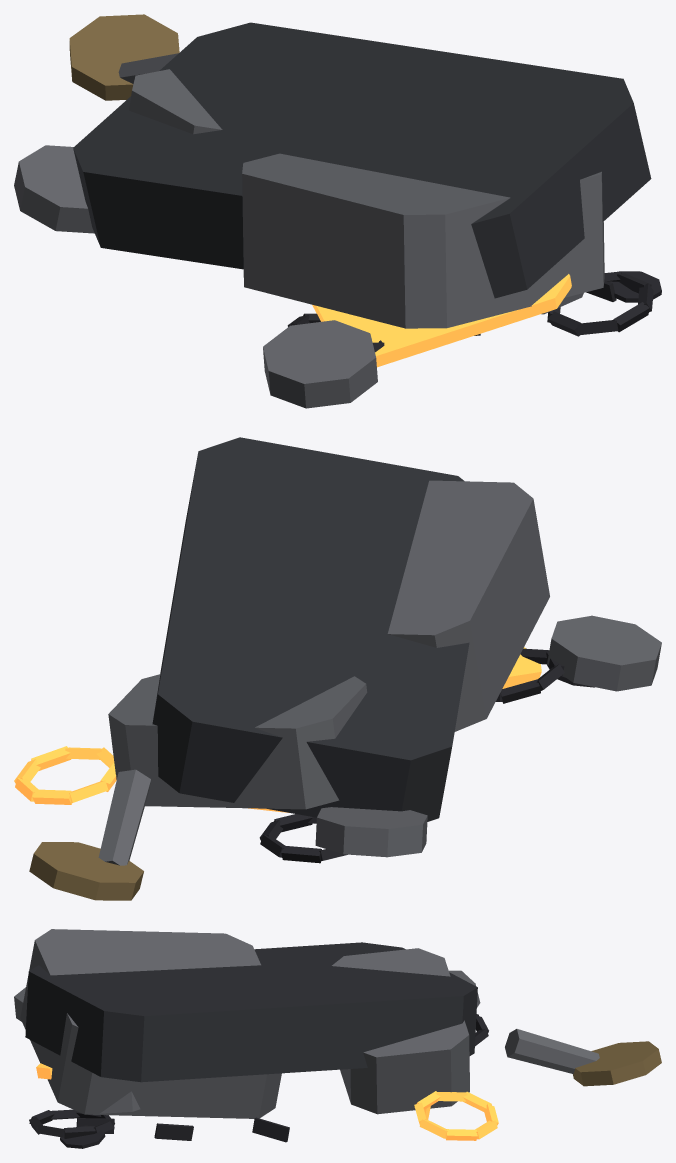
The model's file is Wreck_Aegis_Collector.fbx.
3 views of the same model, one above another, from view 1: azimuth 30°, elevation 25°; view 2: azimuth 150°, elevation 25°; view 3: azimuth 270°, elevation 25° (orthographic). The views are drawn at different scales.
Visible parts, largest first — view 1: Wreck_Aegis_Collector; view 2: Wreck_Aegis_Collector; view 3: Wreck_Aegis_Collector.
Boxes of the visible parts, box(x1,y1,x2,y2) form: Wreck_Aegis_Collector: box(14, 14, 661, 408); Wreck_Aegis_Collector: box(14, 437, 661, 900); Wreck_Aegis_Collector: box(14, 929, 661, 1148).
Bounding box in the file's own units: 1.02 × 0.4247 × 1.72.
